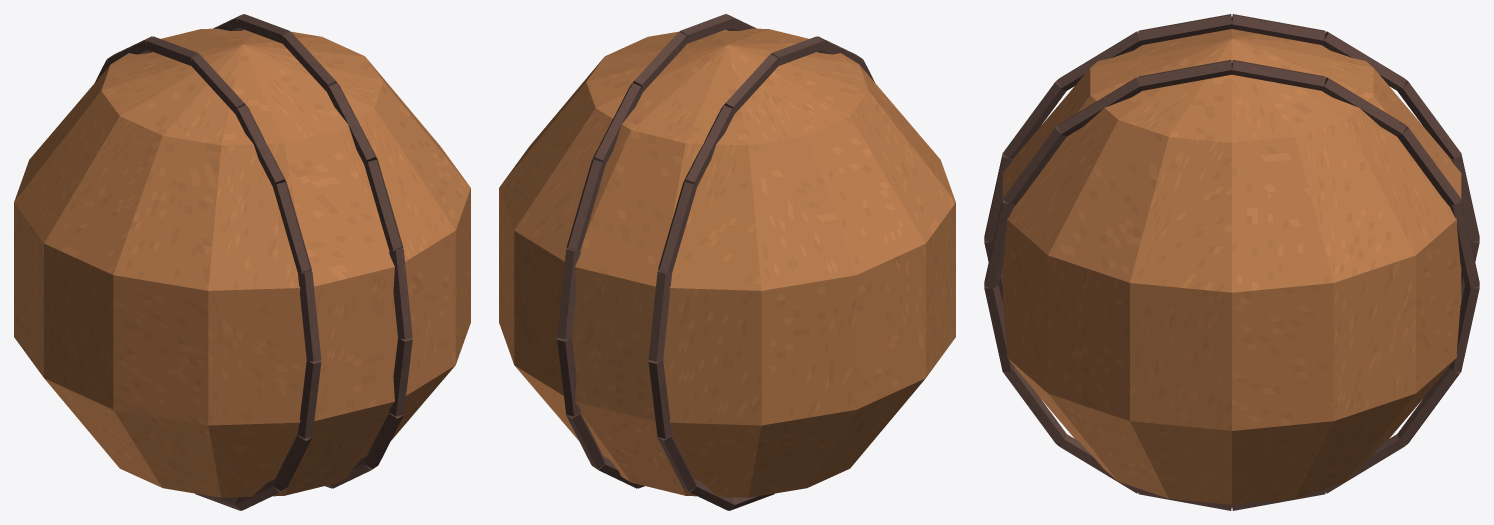
File: basketball.glb
3 renders of one model, left to right at view 1: azimuth 30°, elevation 25°; view 2: azimuth 150°, elevation 25°; view 3: azimuth 270°, elevation 25°, orthographic. The views are drawn at different scales.
Parts seen in each view (by area): view 1: block_ball body, block_ball seam 2 (×2), block_ball seam 3 (×2), block_ball seam 1 (×2), block_ball seam 4 (×2), block_ball seam 0 (×2), block_ball seam 5 (×2), block_ball seam 15 (×2), block_ball seam 6; view 2: block_ball body, block_ball seam 13 (×2), block_ball seam 12 (×2), block_ball seam 14 (×2), block_ball seam 11 (×2), block_ball seam 15 (×2), block_ball seam 10 (×2), block_ball seam 0 (×2), block_ball seam 9; view 3: block_ball body, block_ball seam 0 (×2), block_ball seam 15 (×2), block_ball seam 2 (×2), block_ball seam 13 (×2), block_ball seam 1 (×2), block_ball seam 14 (×2), block_ball seam 3 (×2), block_ball seam 12 (×2), block_ball seam 5, block_ball seam 10, block_ball seam 4 (+3 smaller).
Part boxes in pixels (x1,y1,x2,y2): block_ball body: (14, 28, 470, 497); block_ball seam 2 (×2): (272, 159, 403, 272); block_ball seam 3 (×2): (298, 248, 412, 361); block_ball seam 1 (×2): (235, 83, 377, 185); block_ball seam 4 (×2): (298, 338, 412, 438); block_ball seam 0 (×2): (191, 32, 337, 114); block_ball seam 5 (×2): (273, 413, 403, 491); block_ball seam 15 (×2): (146, 14, 290, 65); block_ball seam 6: (235, 479, 285, 510); block_ball body: (499, 28, 955, 497); block_ball seam 13 (×2): (566, 159, 697, 272); block_ball seam 12 (×2): (557, 248, 671, 361); block_ball seam 14 (×2): (592, 83, 734, 185); block_ball seam 11 (×2): (557, 338, 671, 438); block_ball seam 15 (×2): (632, 32, 778, 113); block_ball seam 10 (×2): (566, 413, 696, 491); block_ball seam 0 (×2): (679, 14, 823, 65); block_ball seam 9: (684, 479, 734, 510); block_ball body: (1002, 29, 1461, 504); block_ball seam 0 (×2): (1138, 14, 1231, 90); block_ball seam 15 (×2): (1232, 14, 1325, 90); block_ball seam 2 (×2): (1003, 80, 1066, 206); block_ball seam 13 (×2): (1397, 80, 1460, 206); block_ball seam 1 (×2): (1057, 31, 1142, 136); block_ball seam 14 (×2): (1321, 31, 1406, 136); block_ball seam 3 (×2): (984, 153, 1014, 288); block_ball seam 12 (×2): (1449, 153, 1479, 288); block_ball seam 5: (1003, 368, 1066, 444); block_ball seam 10: (1397, 368, 1460, 444); block_ball seam 4: (984, 285, 1015, 372).
Size of the model in its own units: 0.226 by 0.239 by 0.2379.
Materials: 1 (1 with a texture image).
